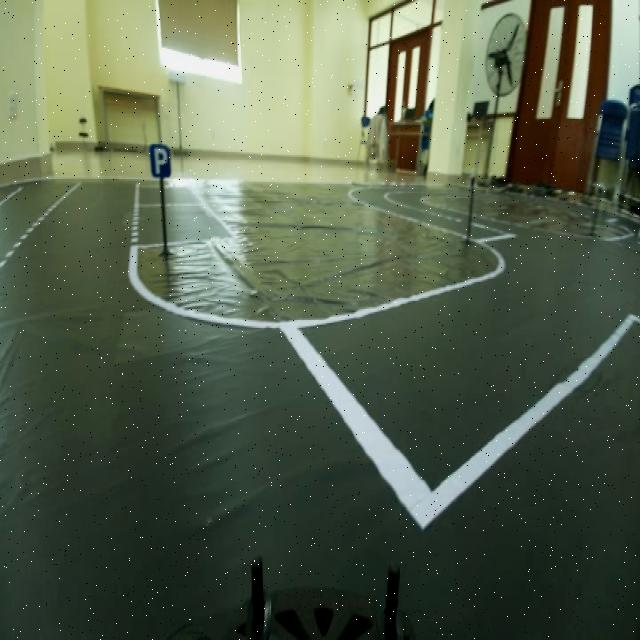parking: (144, 132, 176, 182)
